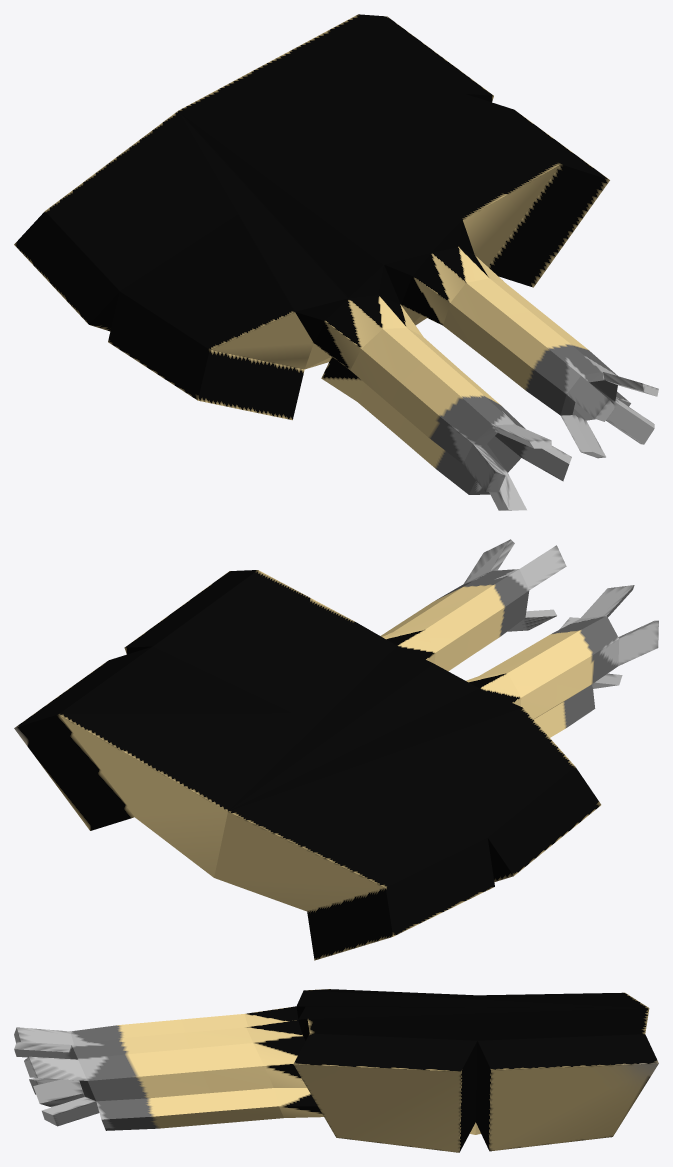
File: weapon 6.FBX
3 renders of one model, top to bottom at view 1: azimuth 30°, elevation 25°; view 2: azimuth 150°, elevation 25°; view 3: azimuth 270°, elevation 25°, orthographic. The views are drawn at different scales.
Parts seen in each view (by area): view 1: Box001; view 2: Box001; view 3: Box001.
Boxes of the visible parts, <box> form: Box001: <box>14,14,658,510</box>; Box001: <box>14,539,658,960</box>; Box001: <box>14,989,658,1152</box>.
Size of the model in its own units: 31.44 by 16.46 by 52.89.
1 material, 1 textured.
